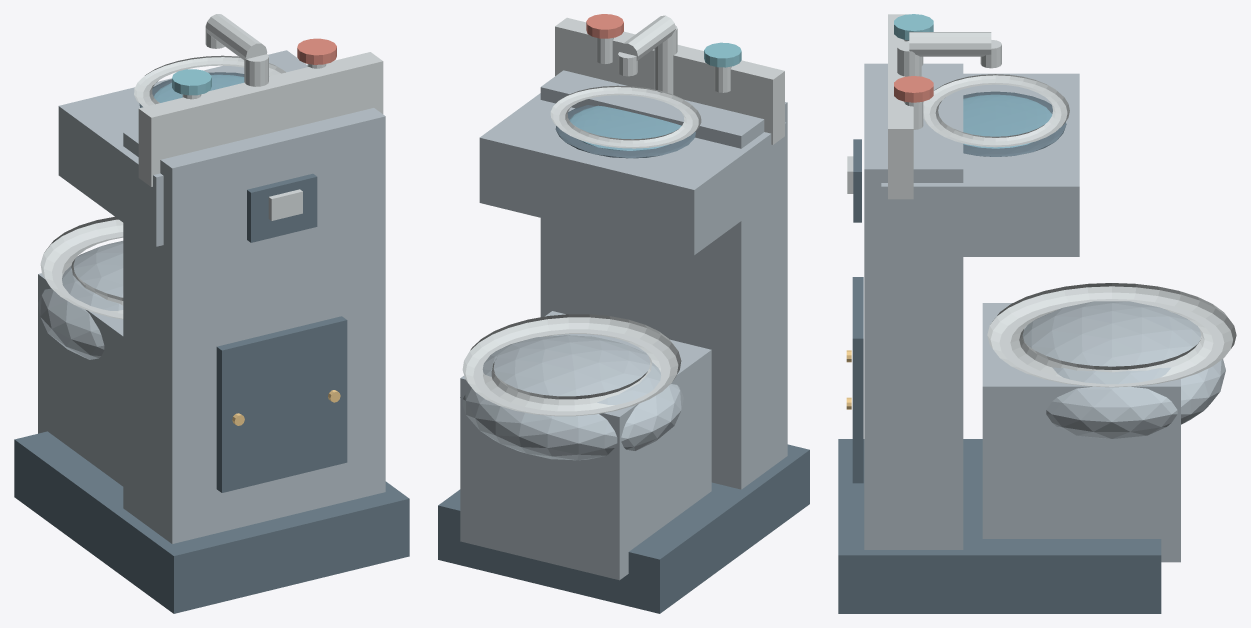
File: cell_sanitation_unit.glb
The picture shows the model from 3 angles, left to right: view 1: azimuth 30°, elevation 25°; view 2: azimuth 150°, elevation 25°; view 3: azimuth 270°, elevation 25°; orthographic projection. The views are drawn at different scales.
Visible parts, largest first — view 1: cell_sanitation_unit:steel, cell_sanitation_unit:steel_dark, cell_sanitation_unit:steel_light, cell_sanitation_unit:plastic_blue, cell_sanitation_unit:red, cell_sanitation_unit:glass_blue; view 2: cell_sanitation_unit:steel, cell_sanitation_unit:steel_light, cell_sanitation_unit:steel_dark, cell_sanitation_unit:glass_blue, cell_sanitation_unit:plastic_blue, cell_sanitation_unit:red; view 3: cell_sanitation_unit:steel, cell_sanitation_unit:steel_dark, cell_sanitation_unit:steel_light, cell_sanitation_unit:glass_blue, cell_sanitation_unit:red, cell_sanitation_unit:plastic_blue.
Boxes of the visible parts, left/top/right/bottom form: cell_sanitation_unit:steel: left=38, top=50, right=385, bottom=543; cell_sanitation_unit:steel_dark: left=14, top=72, right=409, bottom=613; cell_sanitation_unit:steel_light: left=40, top=14, right=383, bottom=319; cell_sanitation_unit:plastic_blue: left=172, top=69, right=211, bottom=95; cell_sanitation_unit:red: left=297, top=38, right=336, bottom=64; cell_sanitation_unit:glass_blue: left=154, top=74, right=244, bottom=102; cell_sanitation_unit:steel: left=460, top=70, right=787, bottom=580; cell_sanitation_unit:steel_light: left=462, top=15, right=784, bottom=416; cell_sanitation_unit:steel_dark: left=438, top=105, right=809, bottom=613; cell_sanitation_unit:glass_blue: left=569, top=105, right=681, bottom=150; cell_sanitation_unit:plastic_blue: left=704, top=42, right=741, bottom=67; cell_sanitation_unit:red: left=586, top=14, right=623, bottom=38; cell_sanitation_unit:steel: left=864, top=63, right=1225, bottom=562; cell_sanitation_unit:steel_dark: left=838, top=91, right=1161, bottom=613; cell_sanitation_unit:steel_light: left=847, top=14, right=1236, bottom=387; cell_sanitation_unit:glass_blue: left=963, top=94, right=1052, bottom=148; cell_sanitation_unit:red: left=894, top=76, right=933, bottom=102; cell_sanitation_unit:plastic_blue: left=894, top=14, right=933, bottom=40.
Size of the model in its own units: 0.64 by 1.34 by 0.9244.
